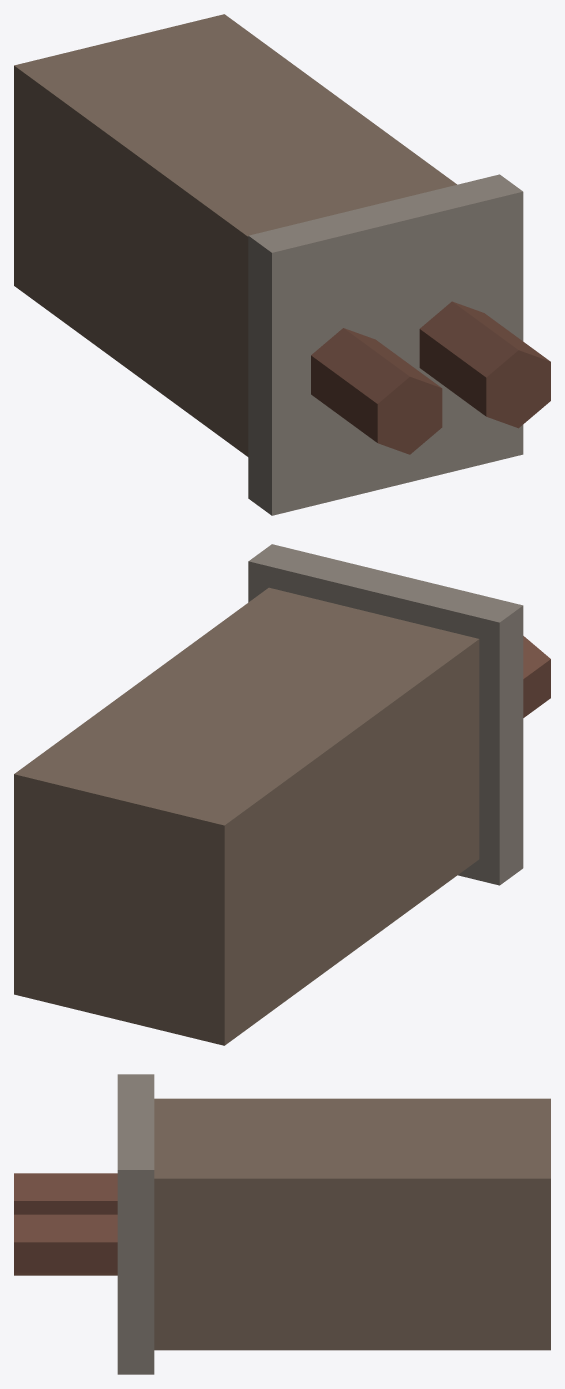
File: roof-chimney.glb
3 renders of one model, top to bottom at view 1: azimuth 30°, elevation 25°; view 2: azimuth 150°, elevation 25°; view 3: azimuth 270°, elevation 25°, orthographic. The views are drawn at different scales.
Visible parts, largest first — view 1: roof-chimney; view 2: roof-chimney; view 3: roof-chimney.
Part boxes in pixels (left/top/right/bottom): roof-chimney: left=14, top=14, right=550, bottom=515; roof-chimney: left=14, top=544, right=550, bottom=1045; roof-chimney: left=14, top=1074, right=550, bottom=1374.
Size of the model in its own units: 0.74 by 0.74 by 1.76.
